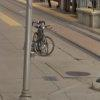Bicycle: (30, 15, 56, 61)
